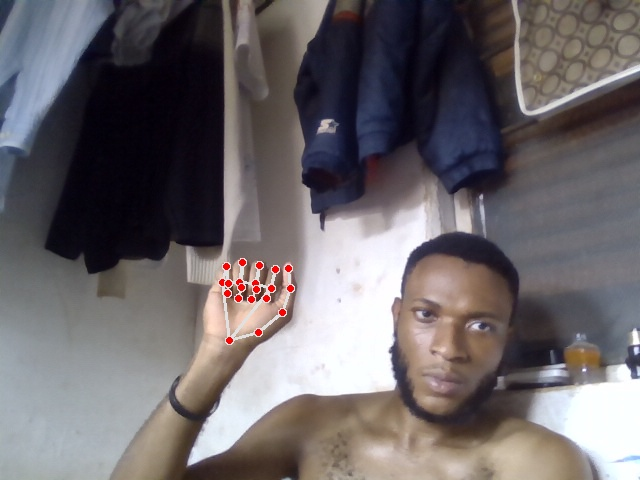number0: (201, 255, 299, 349)
